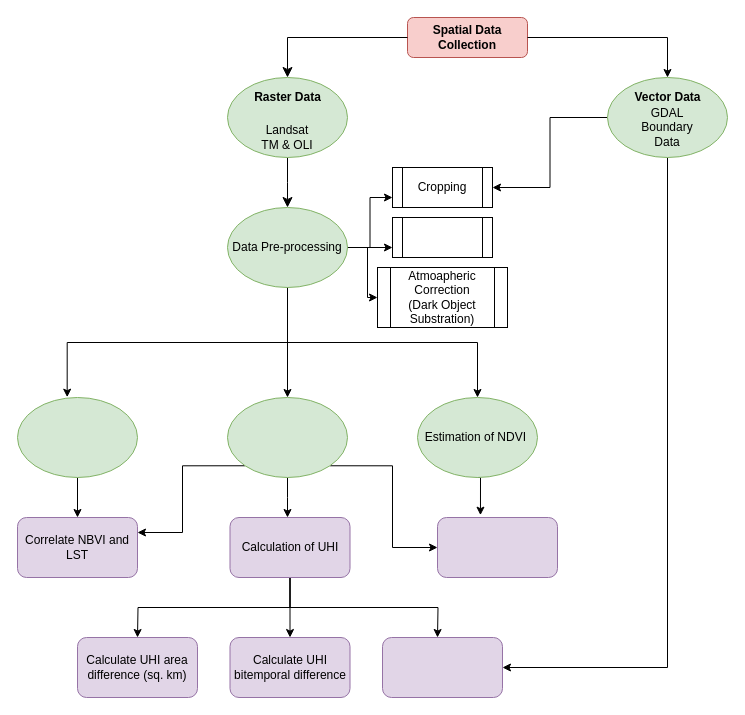
The diagram is 745 pixels wide and 715 high, and some of its shapes have lost their labels. Each missing label, with the centre of its shape:
Correlate NDVI and LST: point (497, 547)
Estimation of LST: point (287, 437)
Estimation of NBVI: point (77, 437)
Identify Warmest UHI: point (442, 667)
Removal of Reducdant Value: point (442, 237)
